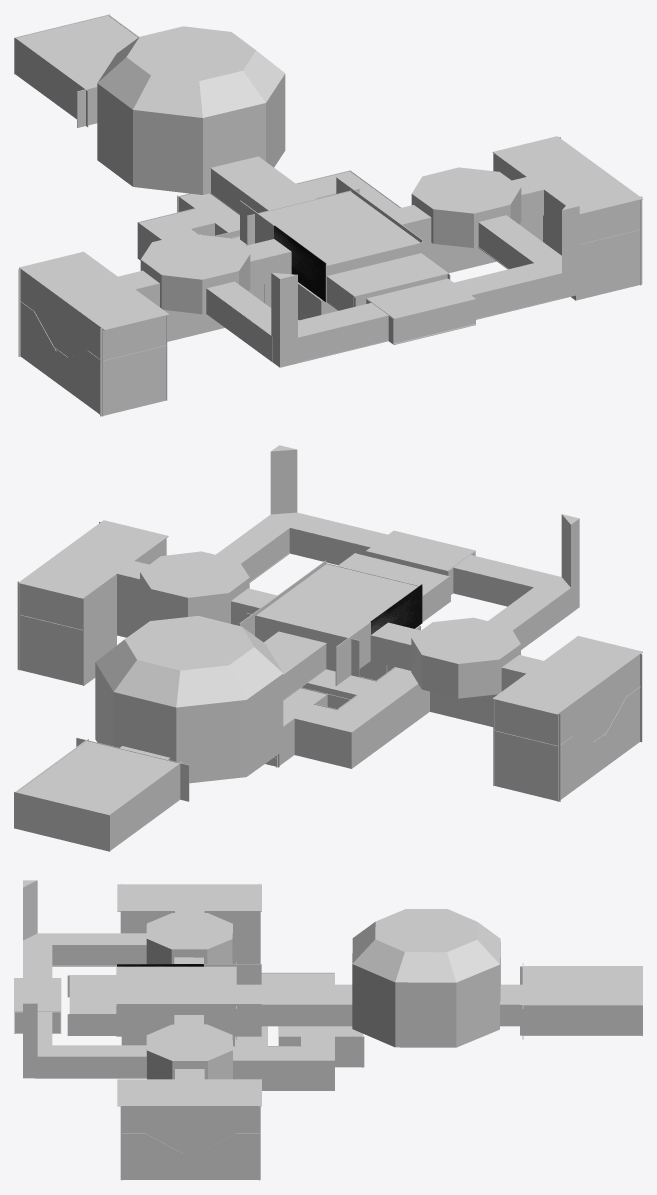
File: research_raw_model.fbx
The picture shows the model from 3 angles, top to bottom: view 1: azimuth 30°, elevation 25°; view 2: azimuth 150°, elevation 25°; view 3: azimuth 270°, elevation 25°; orthographic projection. The views are drawn at different scales.
Visible parts, largest first — view 1: Cylinder.062, Cube.457, Cube.463, Cylinder.061, Cylinder, Cube.458, Cube.455, Cube.471, Cube.468, Cube.492, Cube.501, Cube.181 (+27 smaller); view 2: Cylinder.062, Cube.457, Cylinder, Cube.501, Cube.463, Cylinder.061, Cube.456, Cube.470, Cube.455, Cube.471, Cube.492, Cube.181 (+25 smaller); view 3: Cylinder.062, Cube.469, Cube.501, Cube.463, Cylinder.061, Cylinder, Cube.455, Cube.471, Cube.506, Cube.181, Cube.524, Cube.492 (+18 smaller).
Part boxes in pixels (x1,y1,x2,y2): Cylinder.062: [97, 26, 285, 194]; Cube.457: [20, 269, 103, 416]; Cube.463: [259, 191, 419, 265]; Cylinder.061: [411, 167, 521, 248]; Cylinder: [140, 233, 250, 314]; Cube.458: [100, 316, 166, 416]; Cube.455: [19, 251, 169, 330]; Cube.471: [492, 136, 642, 214]; Cube.468: [576, 196, 642, 300]; Cube.492: [454, 200, 579, 295]; Cube.501: [16, 15, 138, 88]; Cube.181: [207, 273, 388, 340]; Cylinder.062: [95, 616, 283, 783]; Cube.457: [557, 654, 639, 801]; Cylinder: [411, 617, 520, 698]; Cube.501: [15, 740, 178, 814]; Cube.463: [257, 564, 417, 637]; Cylinder.061: [140, 551, 249, 623]; Cube.456: [494, 700, 560, 801]; Cube.470: [17, 581, 82, 685]; Cube.455: [492, 636, 642, 714]; Cube.471: [18, 520, 168, 599]; Cube.492: [216, 445, 387, 563]; Cube.181: [453, 514, 579, 630]; Cylinder.062: [352, 909, 500, 1047]; Cube.469: [120, 1106, 260, 1179]; Cube.501: [523, 967, 642, 1006]; Cube.463: [117, 966, 235, 1003]; Cylinder.061: [146, 1024, 232, 1079]; Cylinder: [146, 913, 232, 963]; Cube.455: [117, 884, 261, 911]; Cube.471: [117, 1079, 261, 1106]; Cube.506: [520, 1004, 642, 1035]; Cube.181: [23, 880, 146, 977]; Cube.524: [233, 1060, 334, 1090]; Cube.492: [23, 996, 146, 1057].
Size of the model in its own units: 1225 by 355 by 1460.
